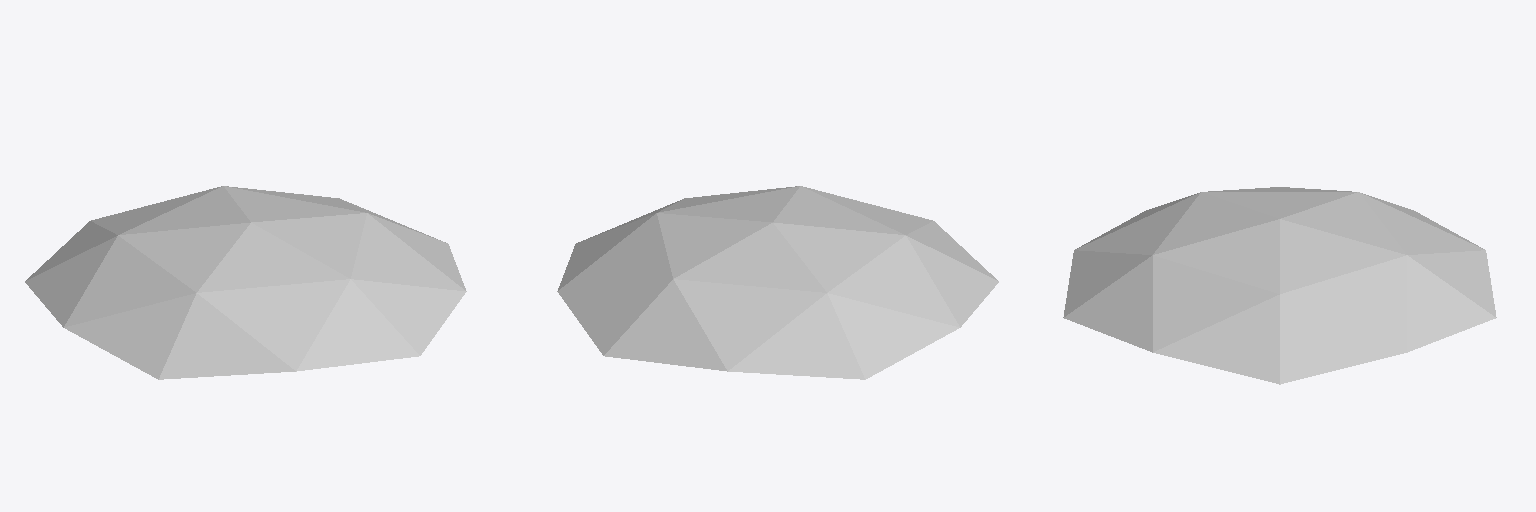
The model's file is especial.obj.
The picture shows the model from 3 angles: view 1: azimuth 30°, elevation 25°; view 2: azimuth 150°, elevation 25°; view 3: azimuth 270°, elevation 25°; orthographic projection.
Parts seen in each view (by area): view 1: Icosphere; view 2: Icosphere; view 3: Icosphere.
Part boxes in pixels (left/top/right/bottom): Icosphere: left=25, top=186, right=466, bottom=379; Icosphere: left=557, top=186, right=998, bottom=379; Icosphere: left=1063, top=187, right=1496, bottom=384.
Bounding box in the file's own units: 0.4856 × 0.0836 × 0.4734.